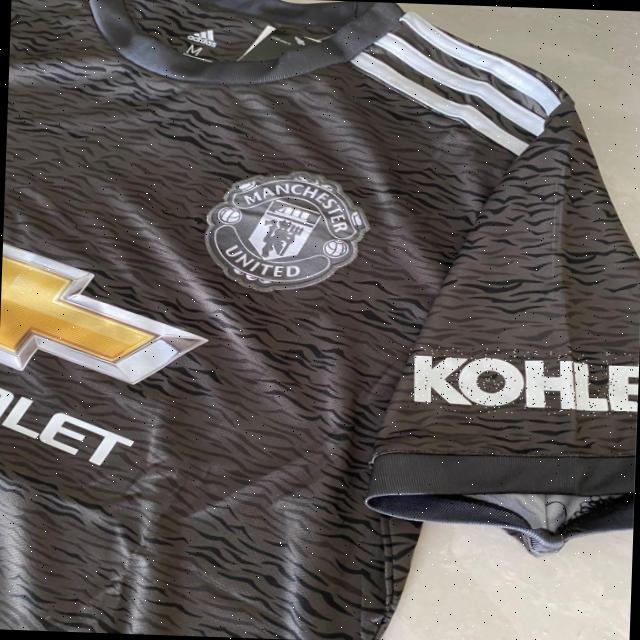Kohler: (403, 345, 639, 418)
